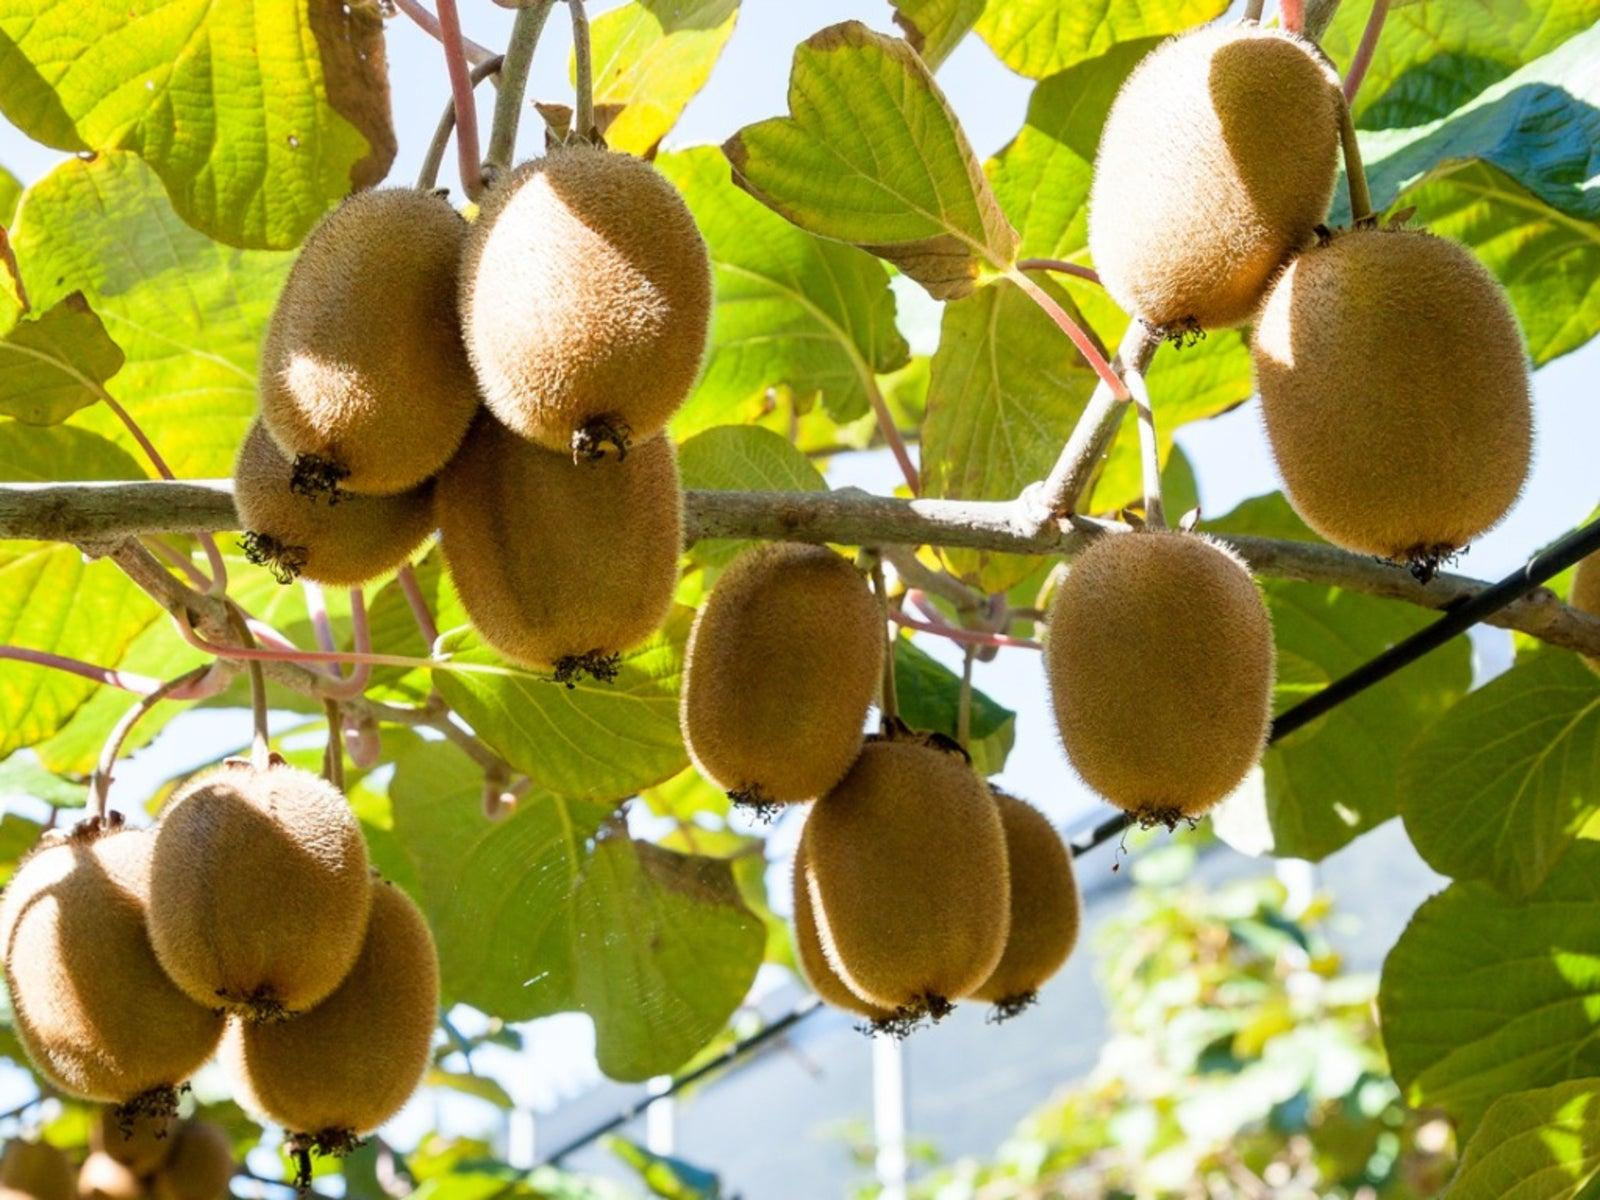kiwi: (1247, 205, 1532, 596), (457, 126, 708, 484), (1082, 13, 1356, 334), (1031, 516, 1288, 838), (792, 721, 1028, 1036), (137, 753, 382, 1037), (265, 165, 474, 495), (670, 523, 876, 822)
